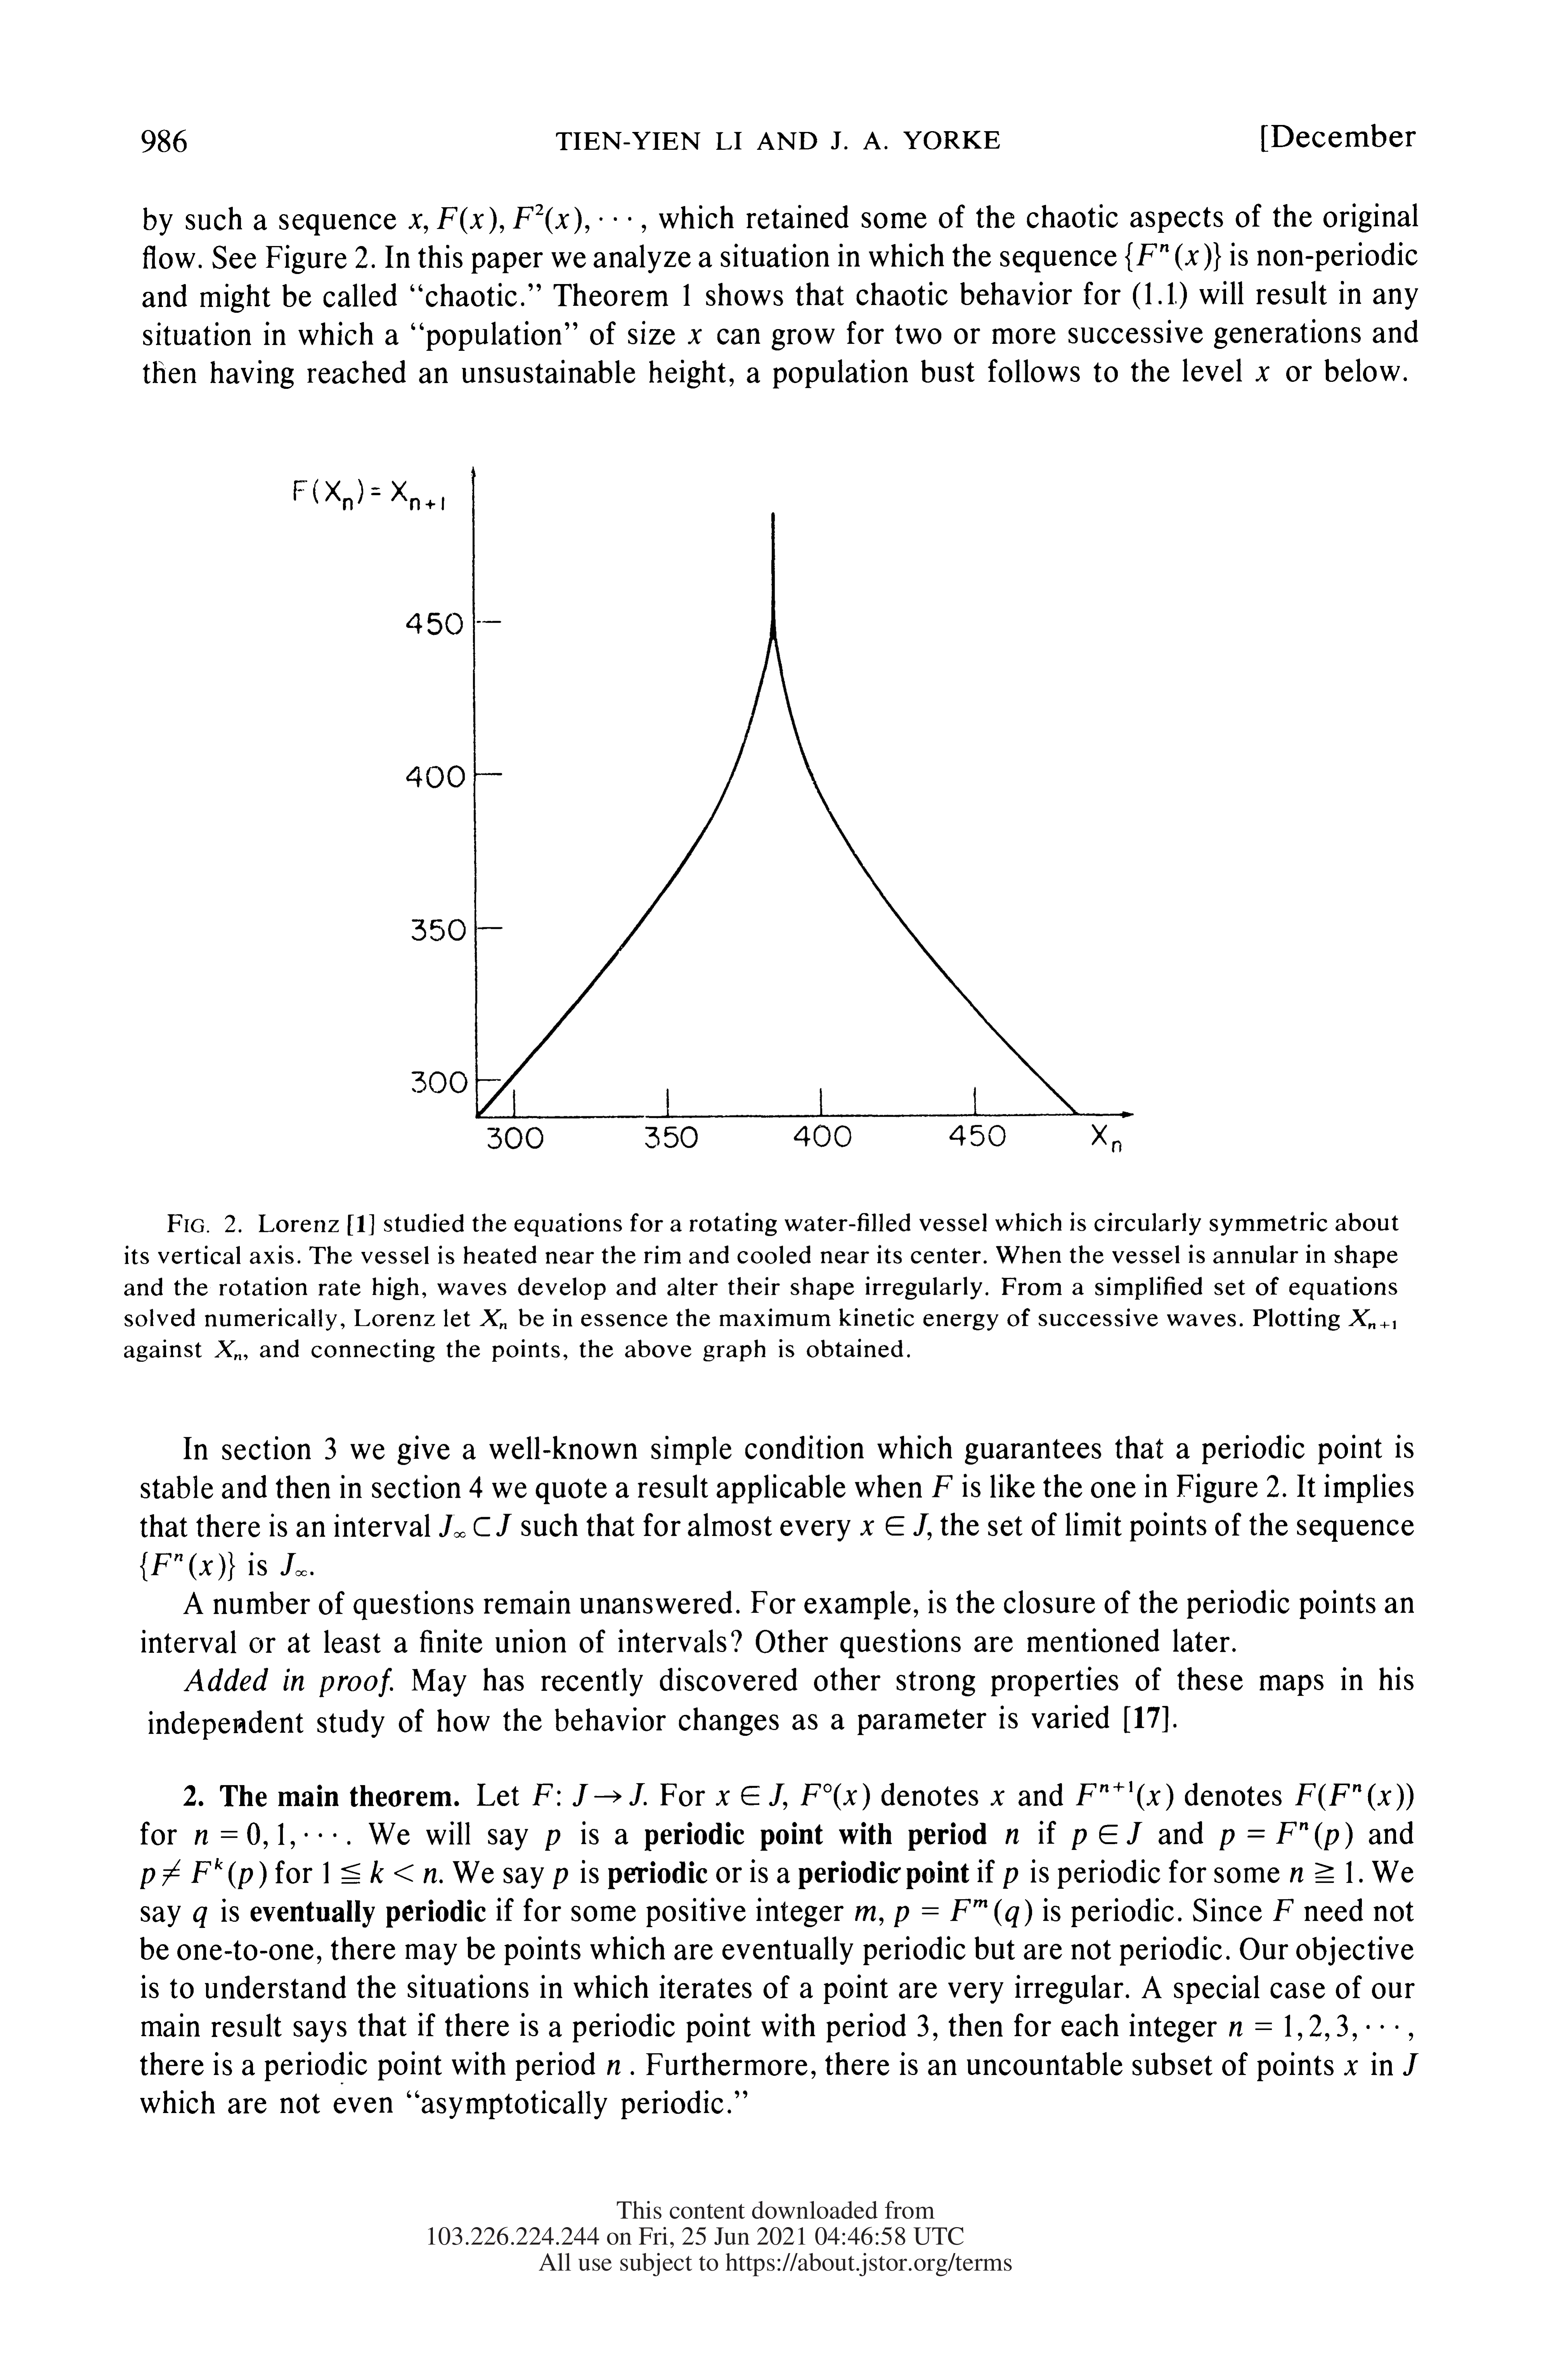maths: (140, 1858, 265, 1889), (895, 1899, 1032, 1927), (1219, 1821, 1353, 1849), (194, 1823, 336, 1849), (1229, 2014, 1356, 2042), (1295, 1783, 1413, 1811), (1125, 243, 1221, 272), (1077, 1782, 1172, 1811), (140, 1553, 234, 1580), (532, 1783, 647, 1806), (323, 1861, 437, 1884), (513, 205, 581, 234), (1072, 1821, 1143, 1849), (860, 1514, 931, 1540), (716, 1783, 787, 1809), (801, 1783, 871, 1809), (439, 1514, 512, 1537), (437, 206, 496, 234), (1290, 1861, 1353, 1882), (1349, 1310, 1396, 1329), (281, 1553, 314, 1577), (855, 1906, 883, 1926), (480, 1310, 506, 1329), (215, 1341, 241, 1360), (1273, 1899, 1294, 1920), (933, 1474, 952, 1497), (409, 213, 428, 232), (545, 1830, 560, 1851), (1002, 1868, 1018, 1889), (1403, 2054, 1418, 2075), (553, 1868, 567, 1889), (192, 1906, 206, 1927), (1255, 366, 1269, 382), (990, 1790, 1004, 1806), (1344, 2059, 1358, 2075), (1006, 1828, 1018, 1844), (607, 2059, 619, 2075), (688, 330, 701, 343), (600, 217, 631, 220)
